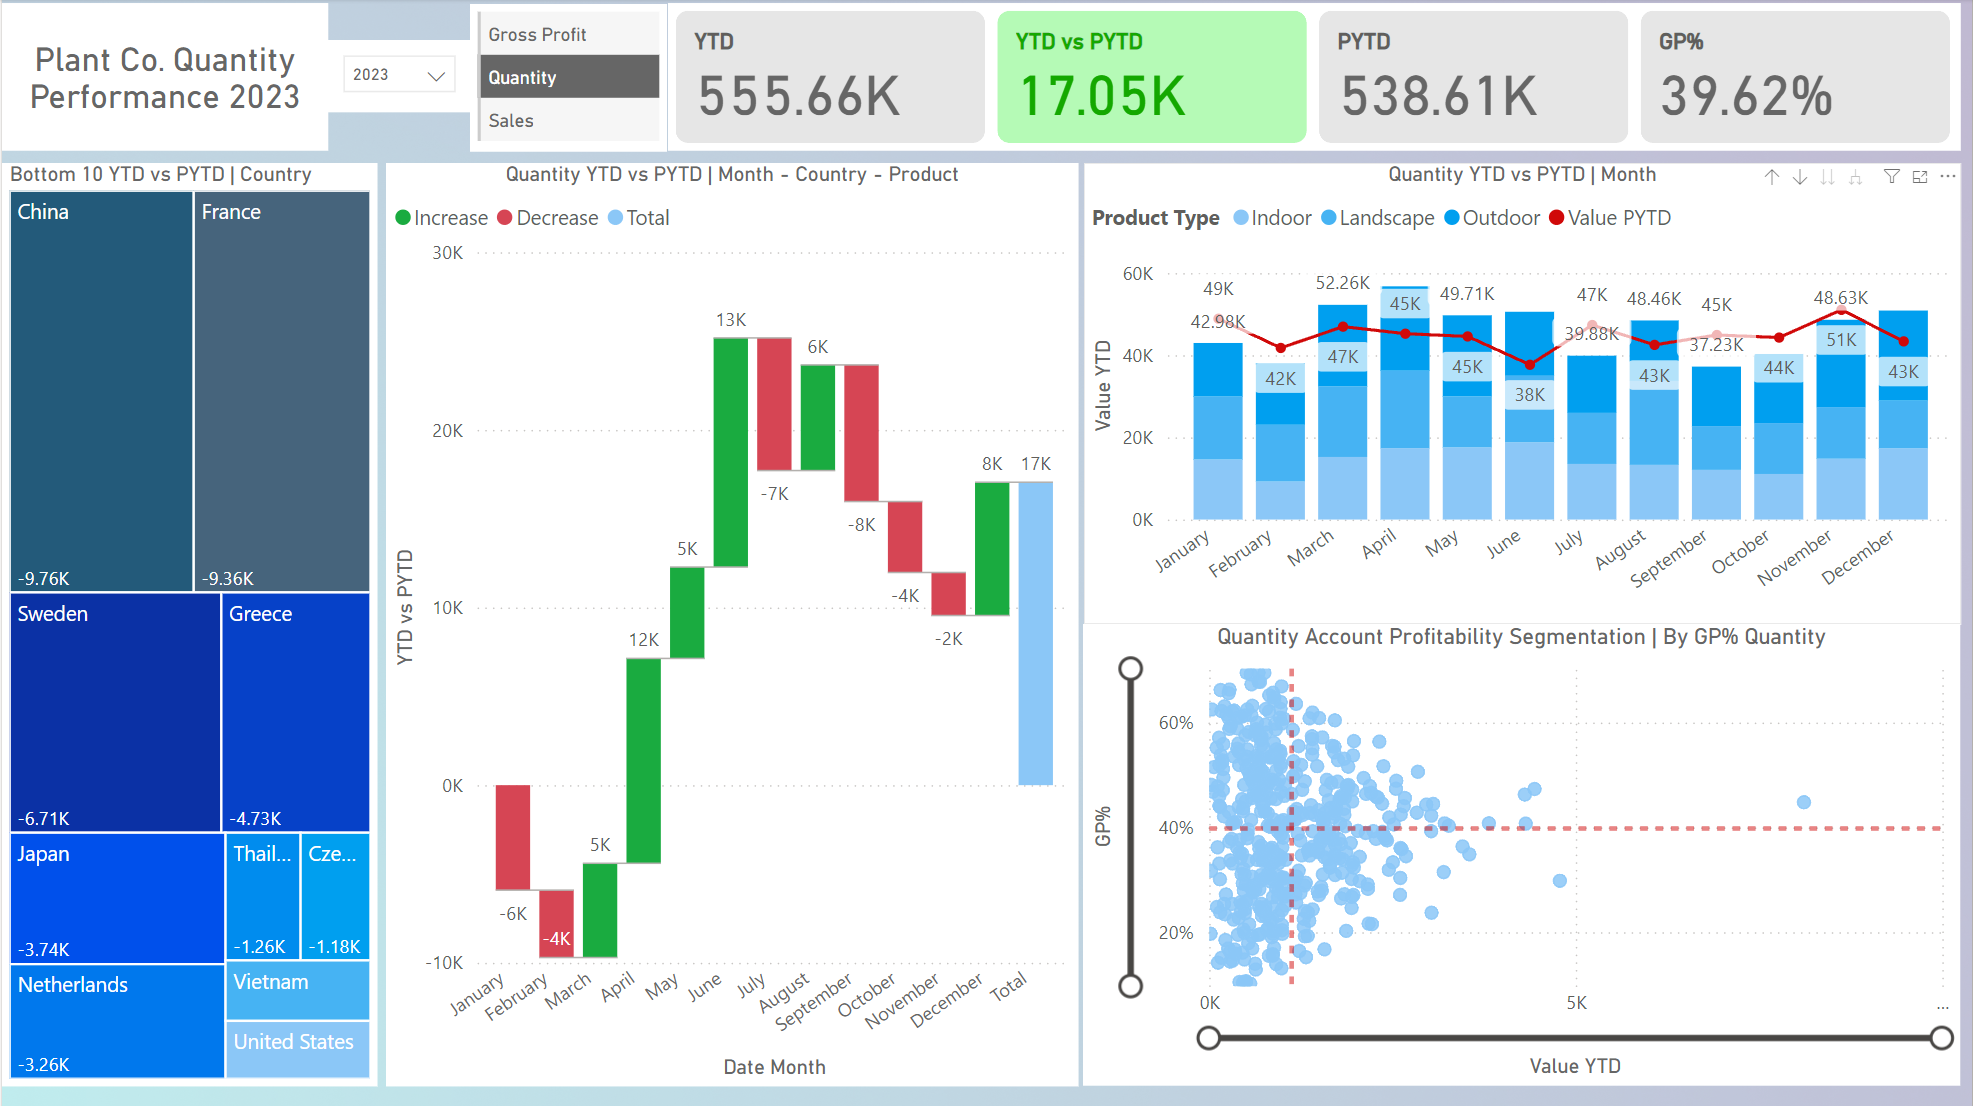

Layout of this report page (visuals, bound fields, positions):
{"tool":"powerbi","page":{"name":"Performance Report","canvas":[1280,720],"ordinal":0},"visuals":[{"type":"cardVisual","fields":{"Data":["_Measure.S_YTD","_Measure.YTD vs PYTD","_Measure.S_PYTD","_Measure.GP%"]},"box":[432.5,2.5,840,96.2],"z":0},{"type":"advancedSlicerVisual","fields":{"Values":["Slc_Value.Values"]},"box":[304.2,3,128.2,95.8],"z":1000},{"type":"slicer","fields":{"Values":["Dim_Date.Date.Variation.Date Hierarchy.Year"]},"box":[211.9,26.9,92.5,46.9],"z":2000},{"type":"treemap","title":"Bottom 10 YTD vs PYTD | Country","fields":{"Values":["_Measure.YTD vs PYTD"],"Group":["Dim_Account.country"]},"box":[0,106.2,244.4,600],"z":3000},{"type":"waterfallChart","fields":{"Y":["_Measure.YTD vs PYTD"],"Category":["Dim_Date.Date.Variation.Date Hierarchy.Month","Dim_Account.country","Dim_Product.Produt_Type","Dim_Product.Product_Name"]},"box":[249.6,106.4,450,600],"z":4000},{"type":"lineStackedColumnComboChart","fields":{"Y":["_Measure.S_YTD"],"Y2":["_Measure.S_PYTD"],"Category":["Dim_Date.Date.Variation.Date Hierarchy.Quarter","Dim_Date.Date.Variation.Date Hierarchy.Month"],"Series":["Dim_Product.Produt_Type"]},"box":[702.8,106.4,570,300],"z":5000},{"type":"scatterChart","fields":{"Y":["_Measure.GP%"],"X":["_Measure.S_YTD"],"Category":["Dim_Account.Account"]},"box":[702.6,406.3,570,300],"z":5001},{"type":"card","fields":{"Values":["_Measure._Report title"]},"box":[0,2.5,211.9,96.2],"z":5002}]}

Visuals, with their boxes in screenshot pixels (x1, y1, x2, y2), scaled from the page's 1280x720 canvas onto the 1973x1106 screenshot:
cardVisual - _Measure.S_YTD x _Measure.YTD vs PYTD: {"left": 667, "top": 4, "right": 1961, "bottom": 152}
advancedSlicerVisual - Slc_Value.Values: {"left": 469, "top": 5, "right": 667, "bottom": 152}
slicer - Dim_Date.Date.Variation.Date Hierarchy.Year: {"left": 327, "top": 41, "right": 469, "bottom": 113}
"Bottom 10 YTD vs PYTD | Country" treemap: {"left": 0, "top": 163, "right": 377, "bottom": 1085}
waterfallChart - _Measure.YTD vs PYTD x Dim_Date.Date.Variation.Date Hierarchy.Month: {"left": 385, "top": 163, "right": 1078, "bottom": 1085}
lineStackedColumnComboChart - _Measure.S_YTD x _Measure.S_PYTD: {"left": 1083, "top": 163, "right": 1962, "bottom": 624}
scatterChart - _Measure.GP% x _Measure.S_YTD: {"left": 1083, "top": 624, "right": 1962, "bottom": 1085}
card - _Measure._Report title: {"left": 0, "top": 4, "right": 327, "bottom": 152}
